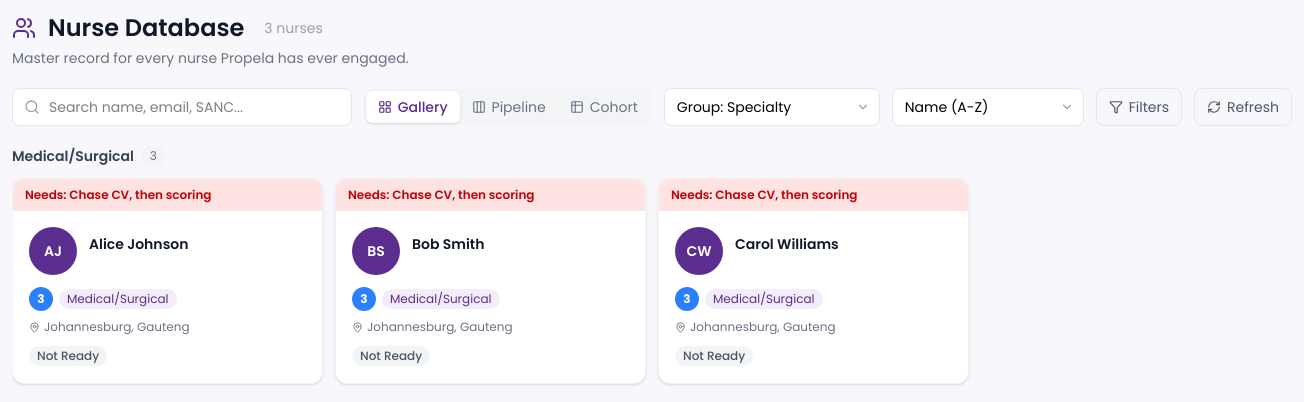
Test case: Filter and search integration tests › Nurse search by name › filters nurses when typing in search input
Expected: the text "Alice Johnson" is shown, [89,234,188,254]
Expected: the text "Bob Smith" is shown, [412,234,484,254]
Type in the search input
In the field with placeholder "Search name, email, SANC...": (182, 107) [12,88,352,126], type "Alice"
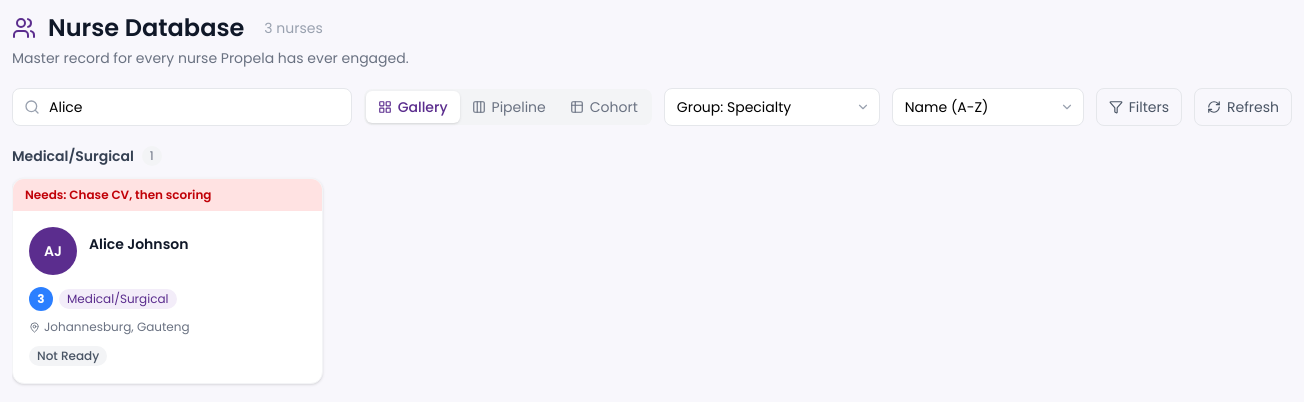
Expected: the text "Alice Johnson" is shown, [89,234,188,254]
Now the text "Bob Smith" is gone
Now the text "Carol Williams" is gone
